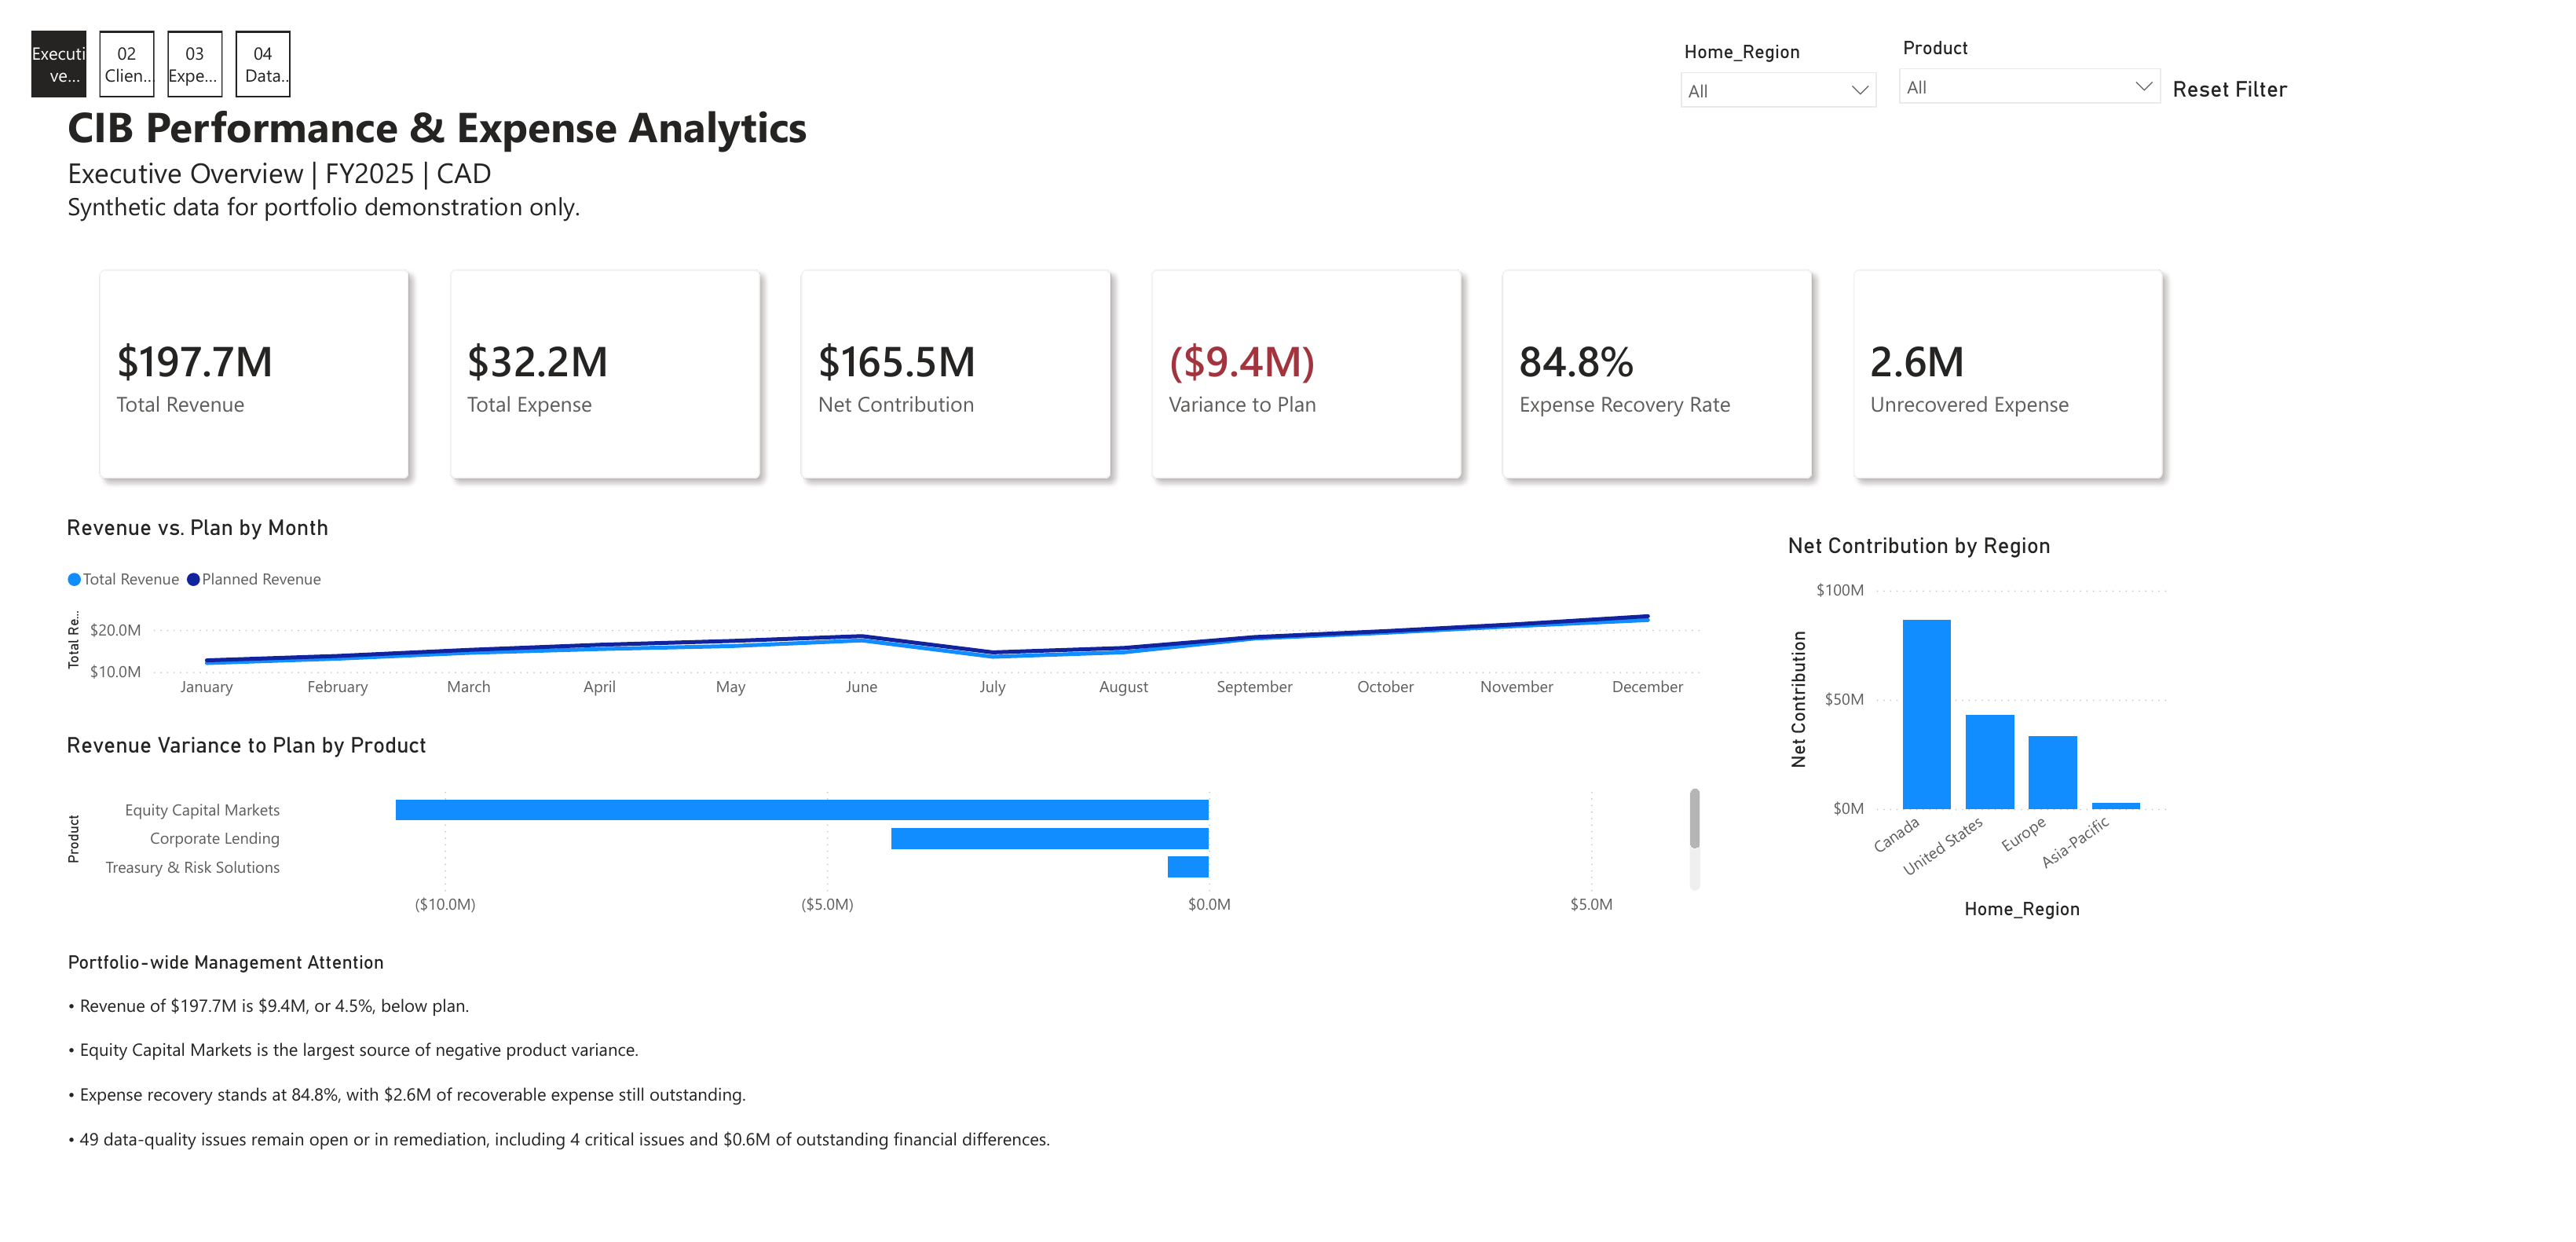

What the dashboard file says about the page in this screenshot:
{"tool":"powerbi","page":{"name":"Executive Overview","canvas":[1920,900],"ordinal":0},"visuals":[{"type":"cardVisual","fields":{"Data":["Fact_Performance.Total Revenue","Fact_Performance.Total Expense","Fact_Performance.Net Contribution","Fact_Performance.Variance to Plan","Fact_Performance.Expense Recovery Rate","Fact_Performance.Unrecovered Expense"]},"box":[23.3,153.3,1636.7,216.7],"z":0},{"type":"textbox","box":[22.5,45,1257.5,108.8],"z":1000},{"type":"lineChart","title":"Revenue vs. Plan by Month","fields":{"Category":["Dim_Date.Month_Label.Variation.Date Hierarchy.Month"],"Y":["Fact_Performance.Total Revenue","Fact_Performance.Planned Revenue"]},"box":[22,369,1258,150],"z":2000},{"type":"clusteredBarChart","title":"Revenue Variance to Plan by Product","fields":{"Category":["Dim_Product.Product"],"Y":["Fact_Performance.Variance to Plan"]},"box":[22,534.5,1258,150],"z":3000},{"type":"clusteredColumnChart","title":"Net Contribution by Region","fields":{"Category":["Dim_Client.Home_Region"],"Y":["Fact_Performance.Net Contribution"]},"box":[1336.7,383.3,300,300],"z":4000},{"type":"slicer","fields":{"Values":["Dim_Client.Home_Region"]},"box":[1250,3.3,170,150],"z":5000},{"type":"slicer","fields":{"Values":["Dim_Product.Product"]},"box":[1416.7,0,220,150],"z":6000},{"type":"textbox","title":"Portfolio-wide Management Attention","box":[22.5,702.5,1045,180],"z":7000},{"type":"actionButton","title":"Reset Filter","box":[1636.2,33.8,111.2,21.2],"z":8000},{"type":"pageNavigator","box":[0,0,200,50],"z":9000}]}

Visuals, with their boxes on the page's 1920x900 design canvas (x1, y1, x2, y2). These are canvas units, not pixel positions in the 2576x1242 screenshot, which may show the page scaled, cropped or inside an application window:
cardVisual - Fact_Performance.Total Revenue x Fact_Performance.Total Expense: bbox=[23, 153, 1660, 370]
textbox: bbox=[22, 45, 1280, 154]
"Revenue vs. Plan by Month" lineChart: bbox=[22, 369, 1280, 519]
"Revenue Variance to Plan by Product" clusteredBarChart: bbox=[22, 534, 1280, 684]
"Net Contribution by Region" clusteredColumnChart: bbox=[1337, 383, 1637, 683]
slicer - Dim_Client.Home_Region: bbox=[1250, 3, 1420, 153]
slicer - Dim_Product.Product: bbox=[1417, 0, 1637, 150]
"Portfolio-wide Management Attention" textbox: bbox=[22, 702, 1068, 882]
"Reset Filter" actionButton: bbox=[1636, 34, 1747, 55]
pageNavigator: bbox=[0, 0, 200, 50]
